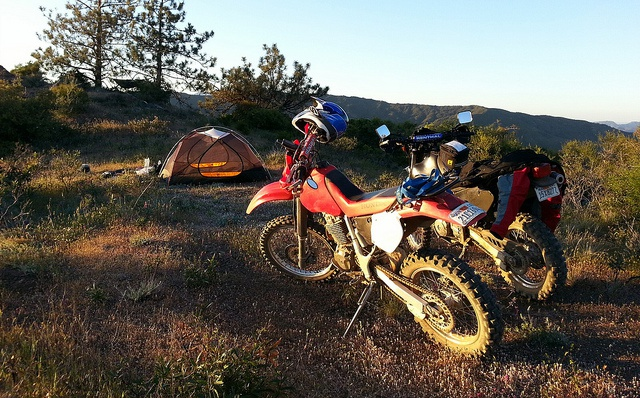non-vehicle: (244, 93, 508, 359), (372, 108, 568, 304)
